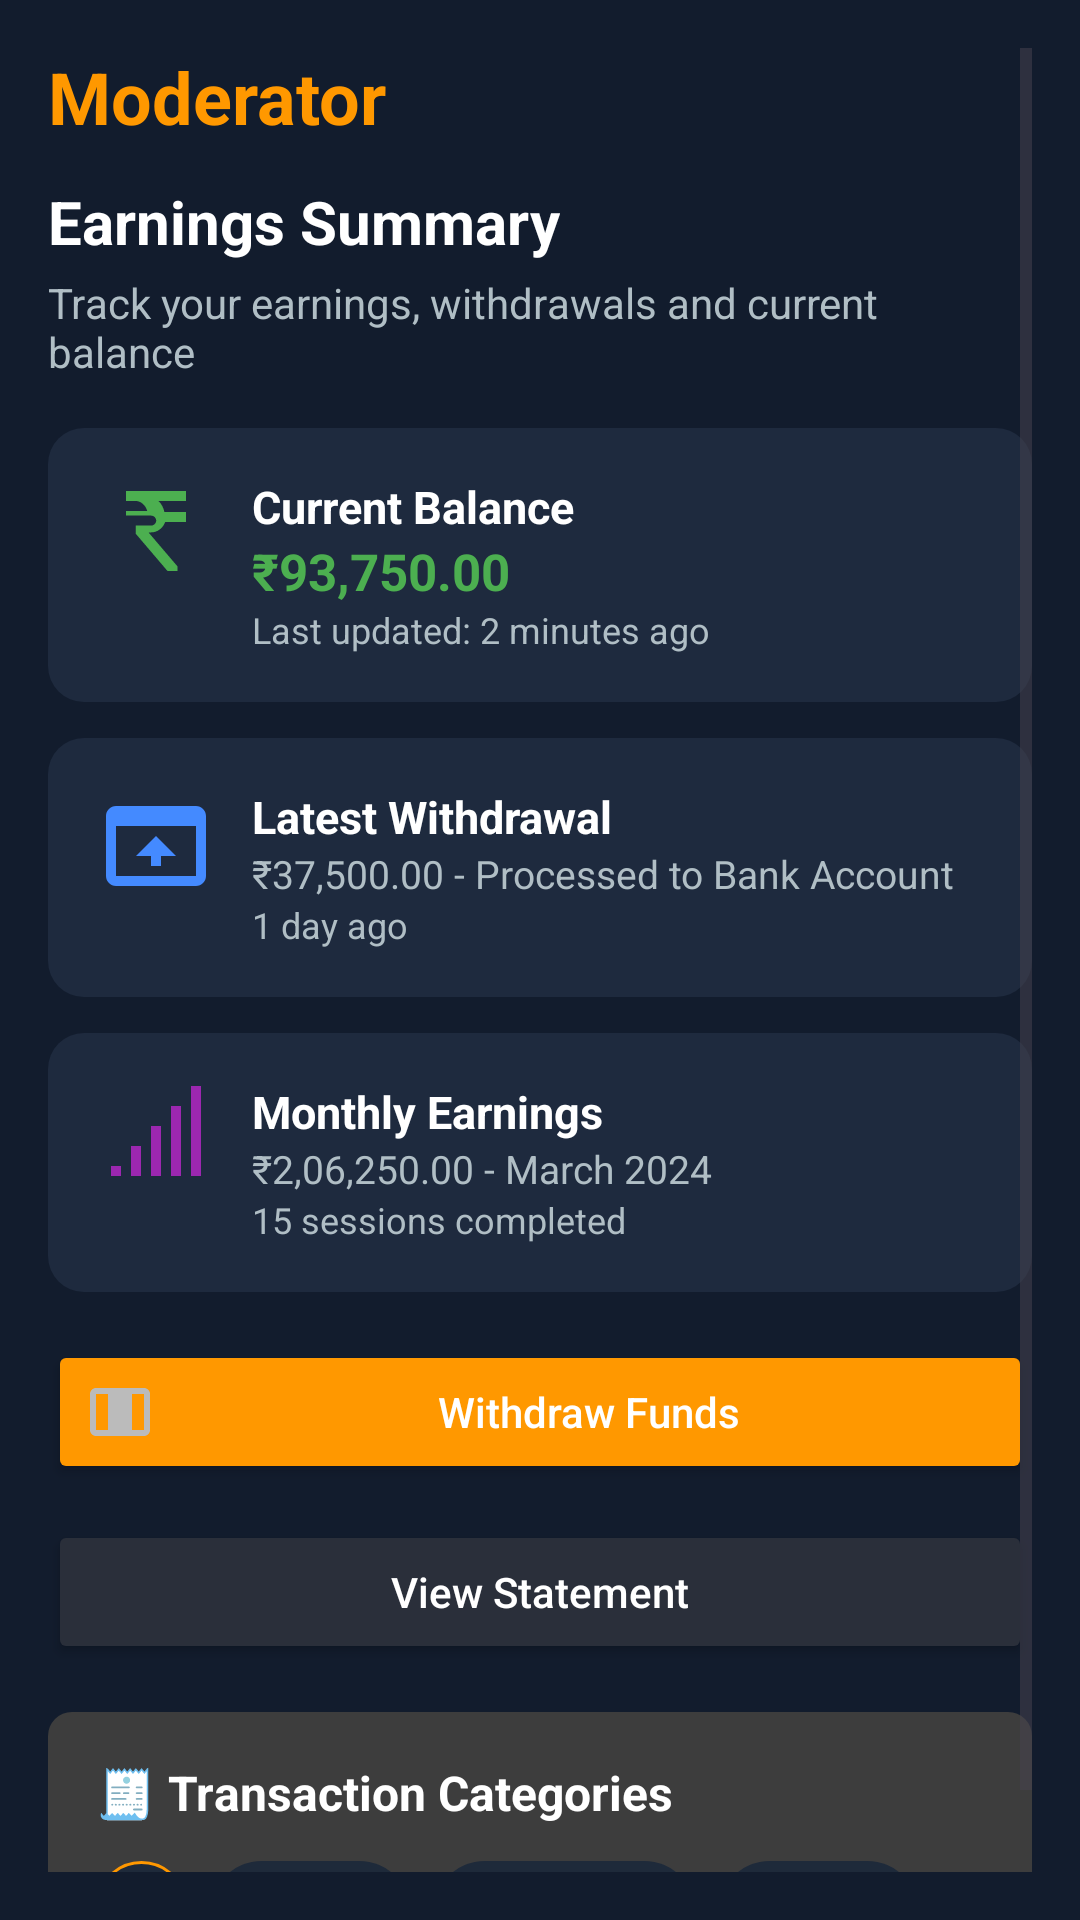

Icon bounding boxes for this 1080px x 1920px phone screenshot, format (x1, y1, x2, y2):
rupee: (126, 491, 186, 571)
